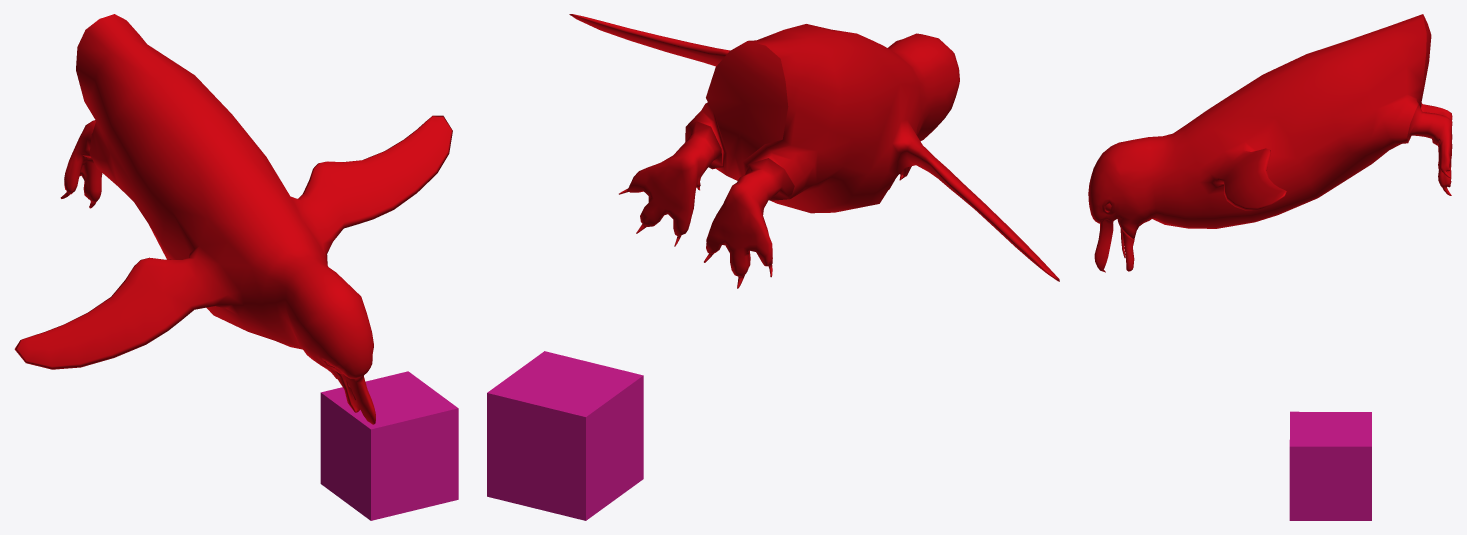
File: peng3.obj
3 views of the same model, side by side, from view 1: azimuth 30°, elevation 25°; view 2: azimuth 150°, elevation 25°; view 3: azimuth 270°, elevation 25° (orthographic). The views are drawn at different scales.
Parts seen in each view (by area): view 1: Animal, Cube; view 2: Animal, Cube; view 3: Animal, Cube.
Boxes of the visible parts, <box> form: Animal: <box>14,14,452,424</box>; Cube: <box>320,371,458,520</box>; Animal: <box>569,14,1059,288</box>; Cube: <box>487,351,643,520</box>; Animal: <box>1088,14,1452,272</box>; Cube: <box>1289,411,1371,520</box>.
Bounding box in the file's own units: 2.05 × 2.14 × 1.77.
